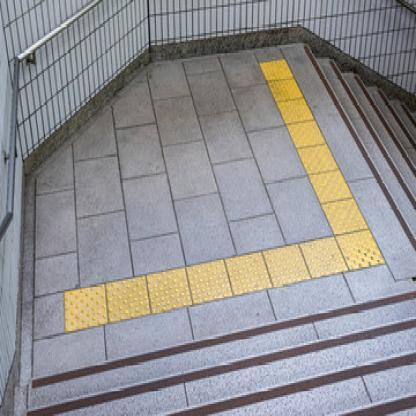podotacti: (56, 37, 387, 350)
